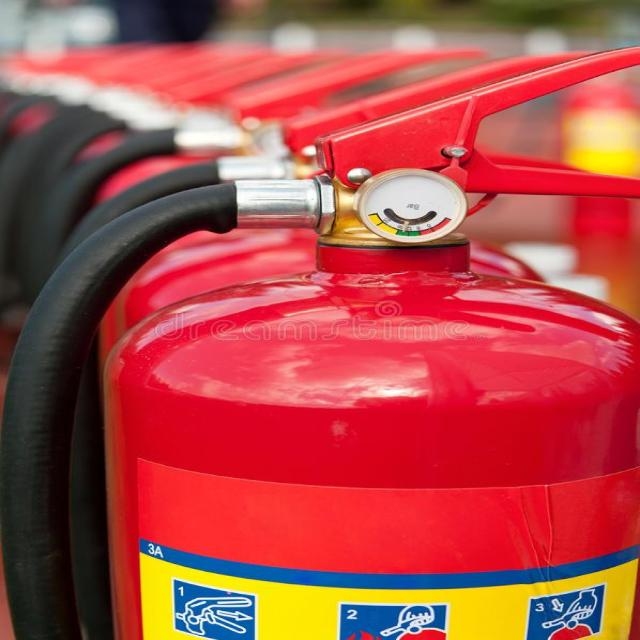fire_extinguisher: (0, 40, 639, 639)
